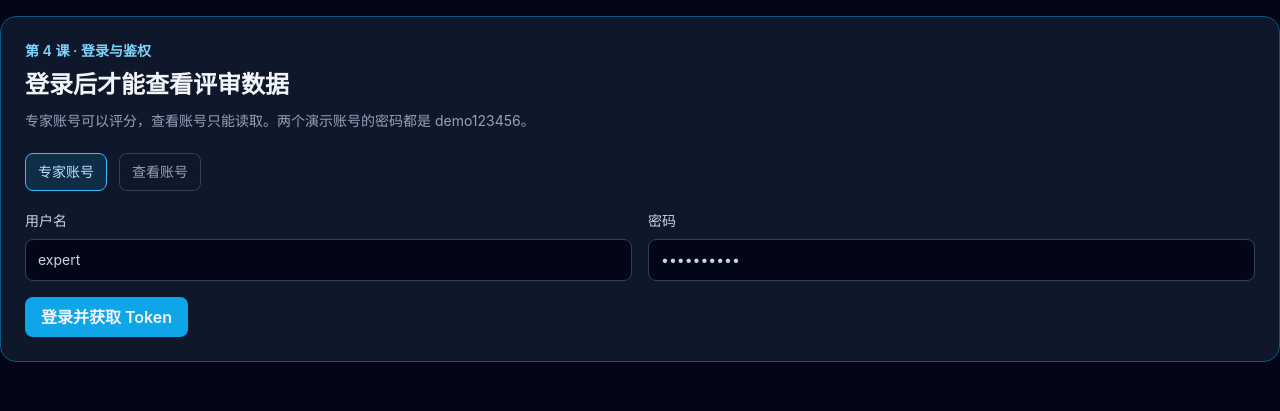
Test: LoginCard › 登录失败时显示可读错误，不通知父组件
The width and height of the screenshot is (1280, 411).
Click the button "登录并获取 Token": (107, 317) [25, 297, 188, 337]
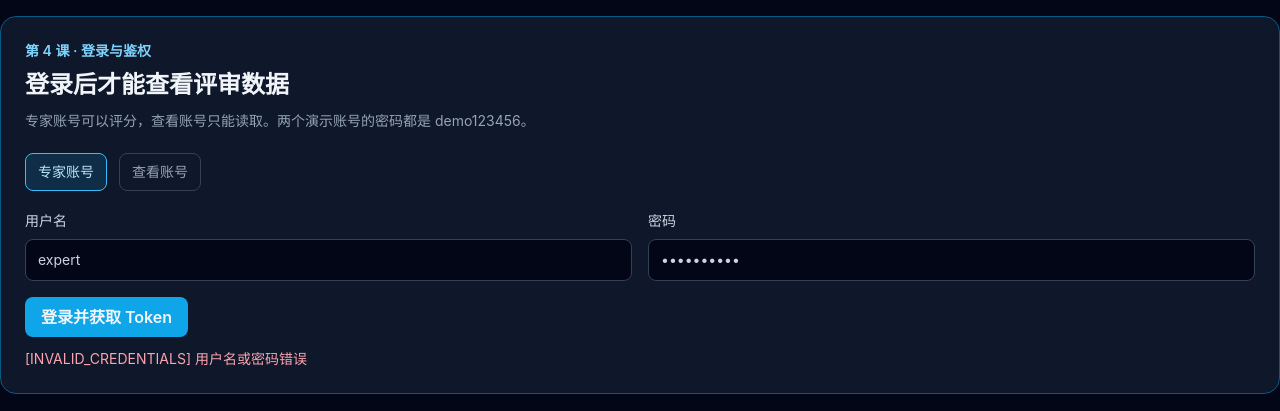
Expected: the text "[INVALID_CREDENTIALS] 用户名或密码错误" is shown, [25, 350, 307, 367]
